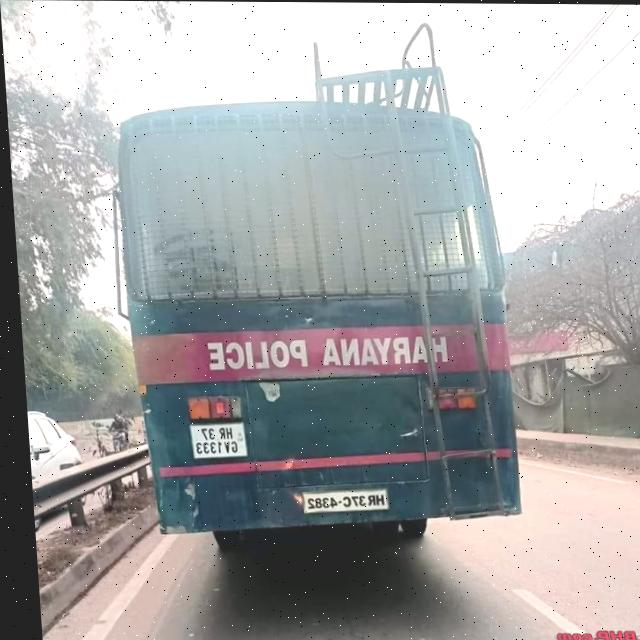plate: (294, 486, 384, 513), (183, 420, 242, 460)
